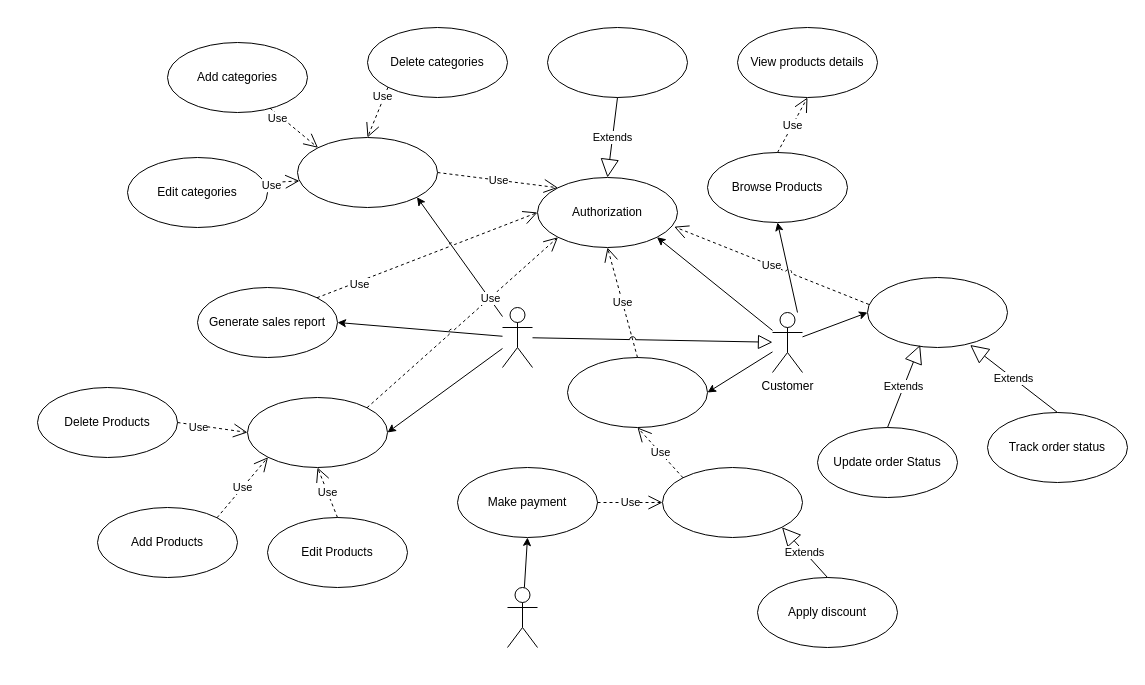
This 1145x685 diagram has some shape labels left out. Here are the shapes that lost their labels. From the top down, the centre of each, then its label:
At [617,62]: "Reset Password".
At [367,172]: "Manage categories".
At [937,312]: "View orders".
At [517,337]: "Admin".
At [637,392]: "Add to order".
At [317,432]: "Manage Products".
At [732,502]: "Place order".
At [522,617]: "Payment service".
